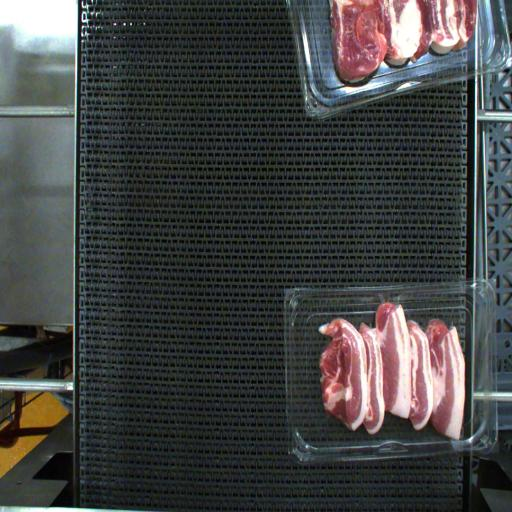packaging-error: (371, 277, 415, 318)
